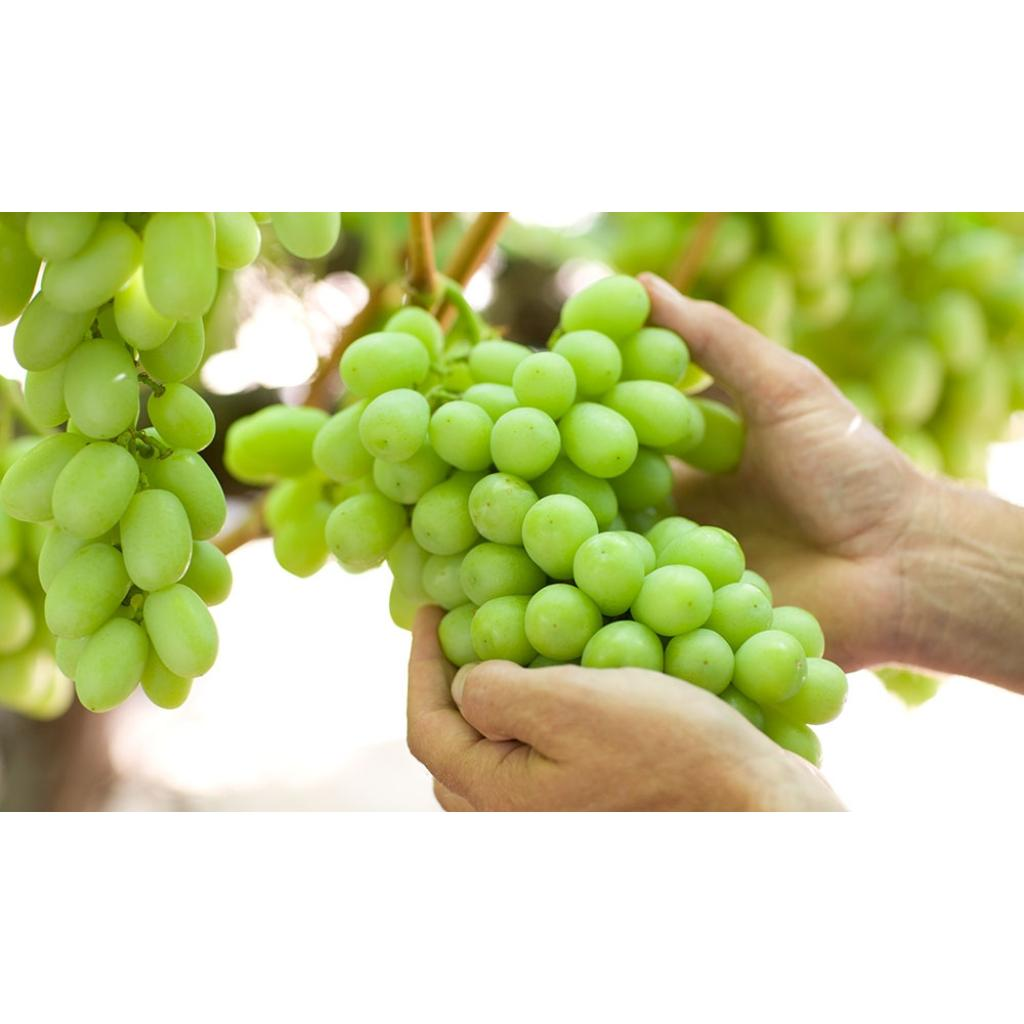grape: (224, 274, 845, 760), (0, 212, 259, 710), (271, 212, 337, 254)
